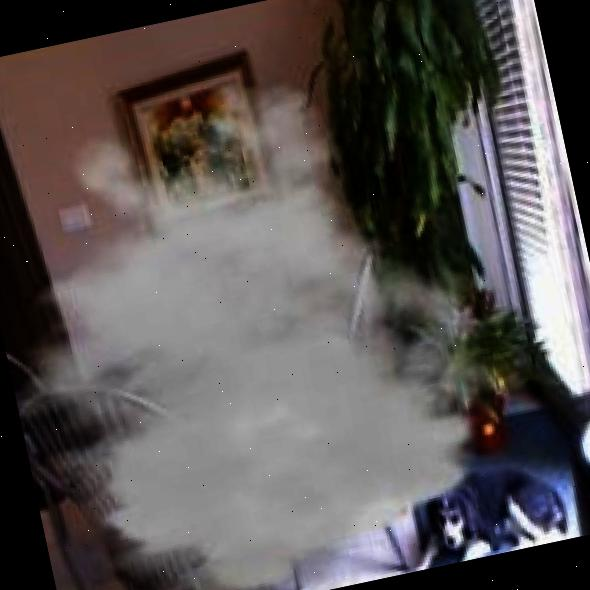smoke: (0, 38, 555, 590)
